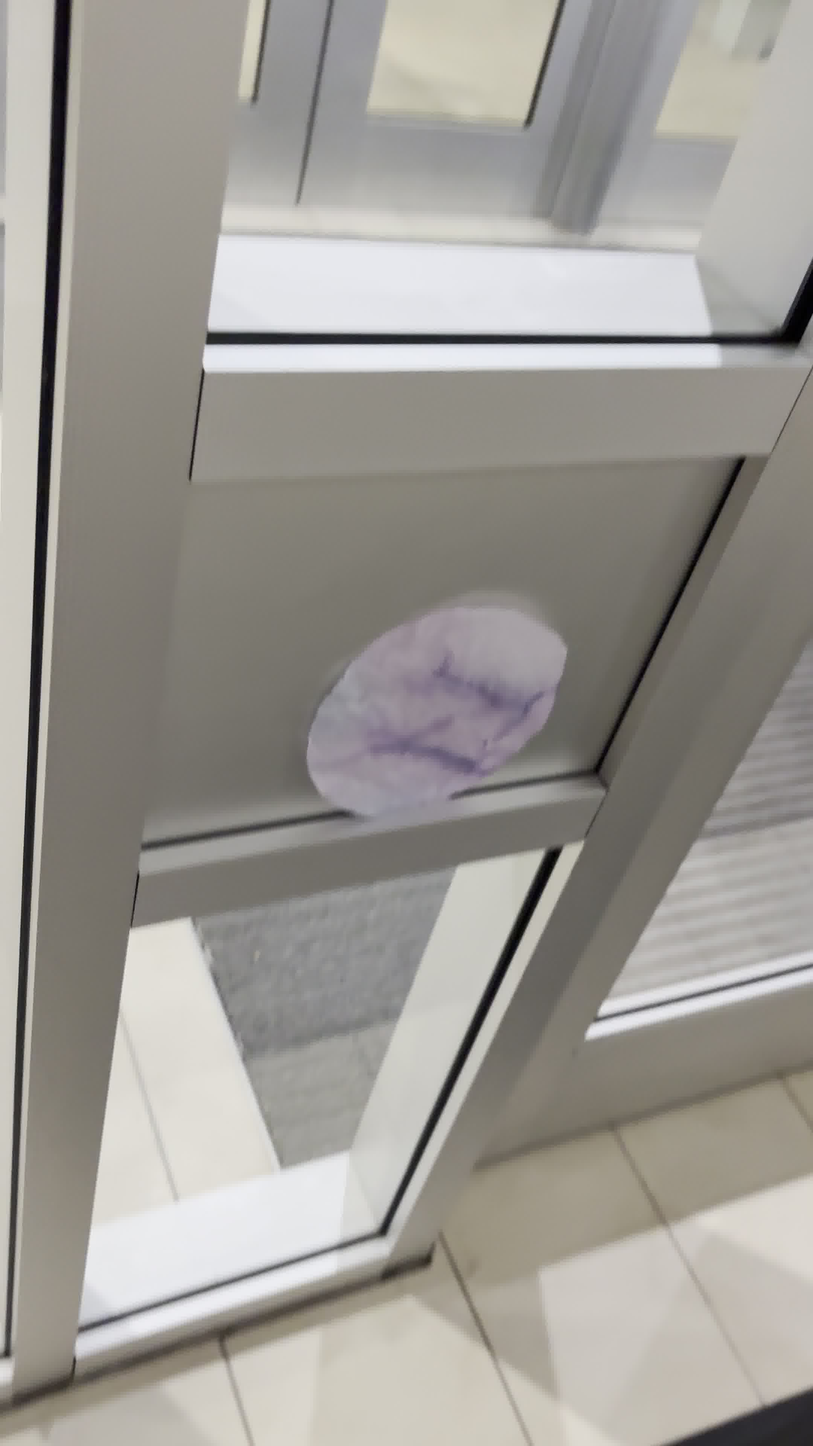Target: (301, 598, 572, 821)
